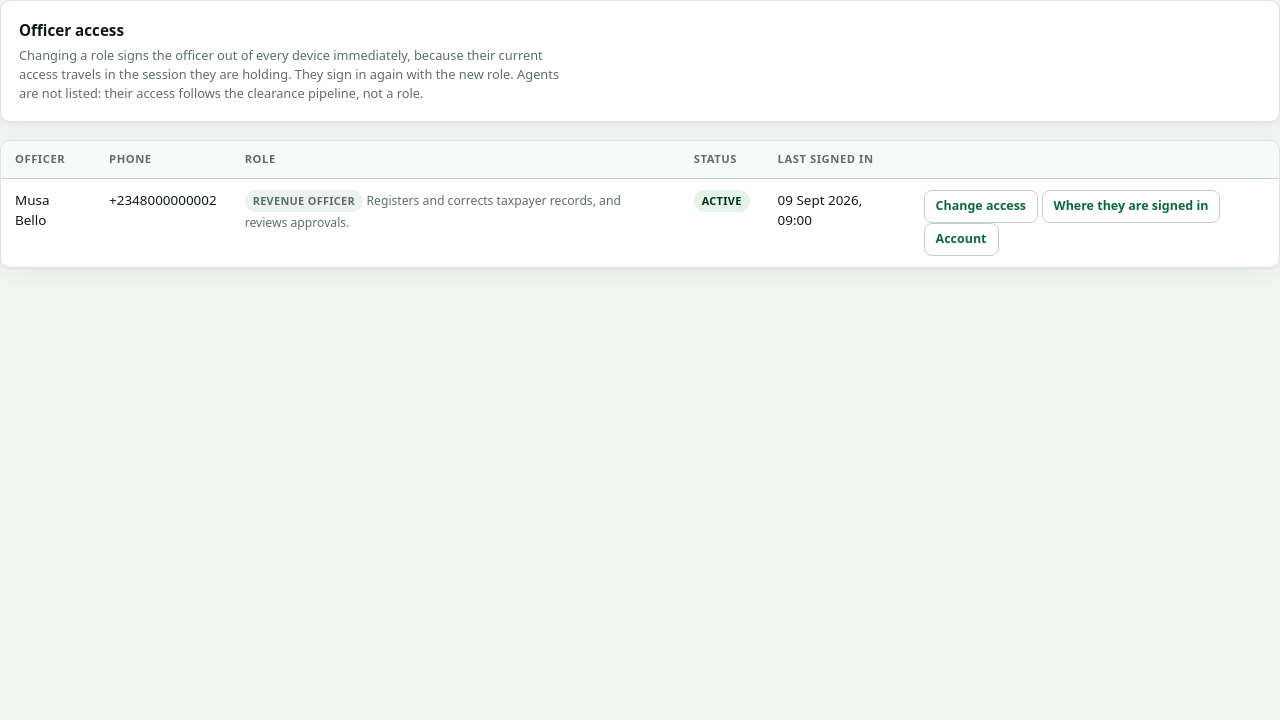
Test: on the screen that ends somebody’s access › stops saying it once the reason is long enough
Click the button "Account": click(961, 239) top-left (924, 223), bottom-right (998, 256)
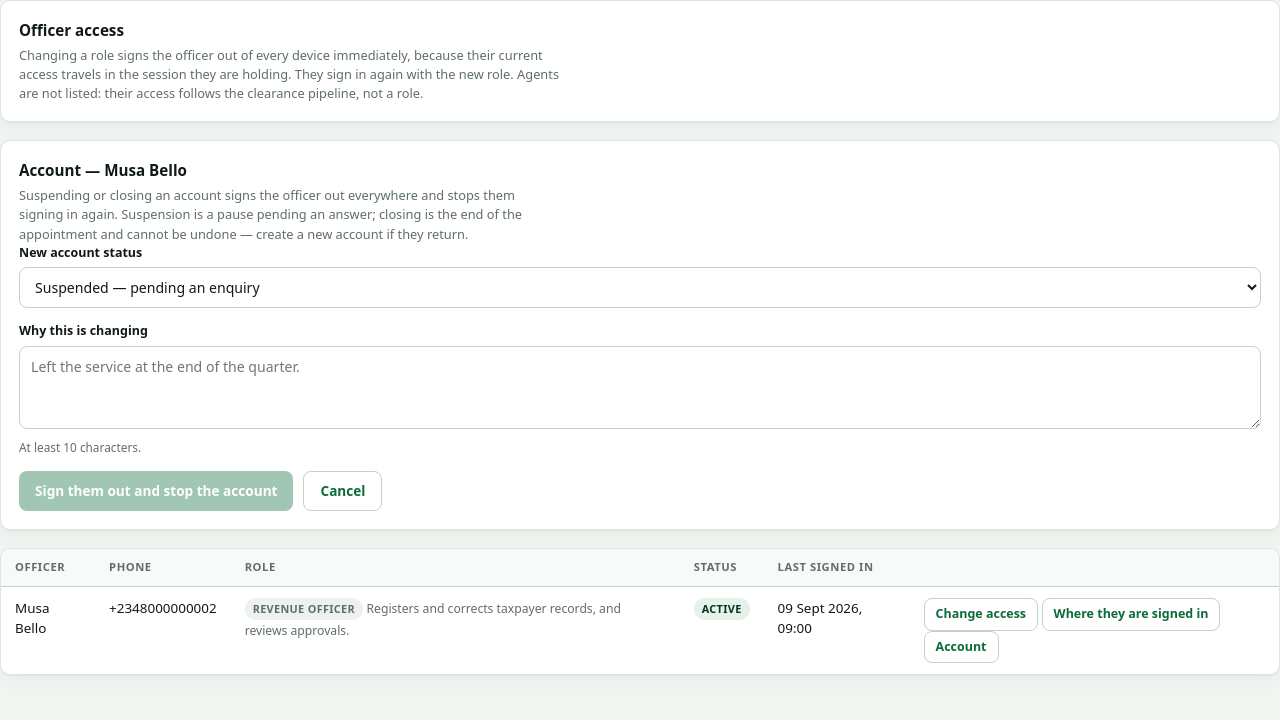
Now the text "At least 10 characters." is shown, box top-left (19, 439), bottom-right (141, 455)
In the text box with id "status-reason": (640, 388) top-left (19, 346), bottom-right (1261, 430), type "Left the service at the end of August."
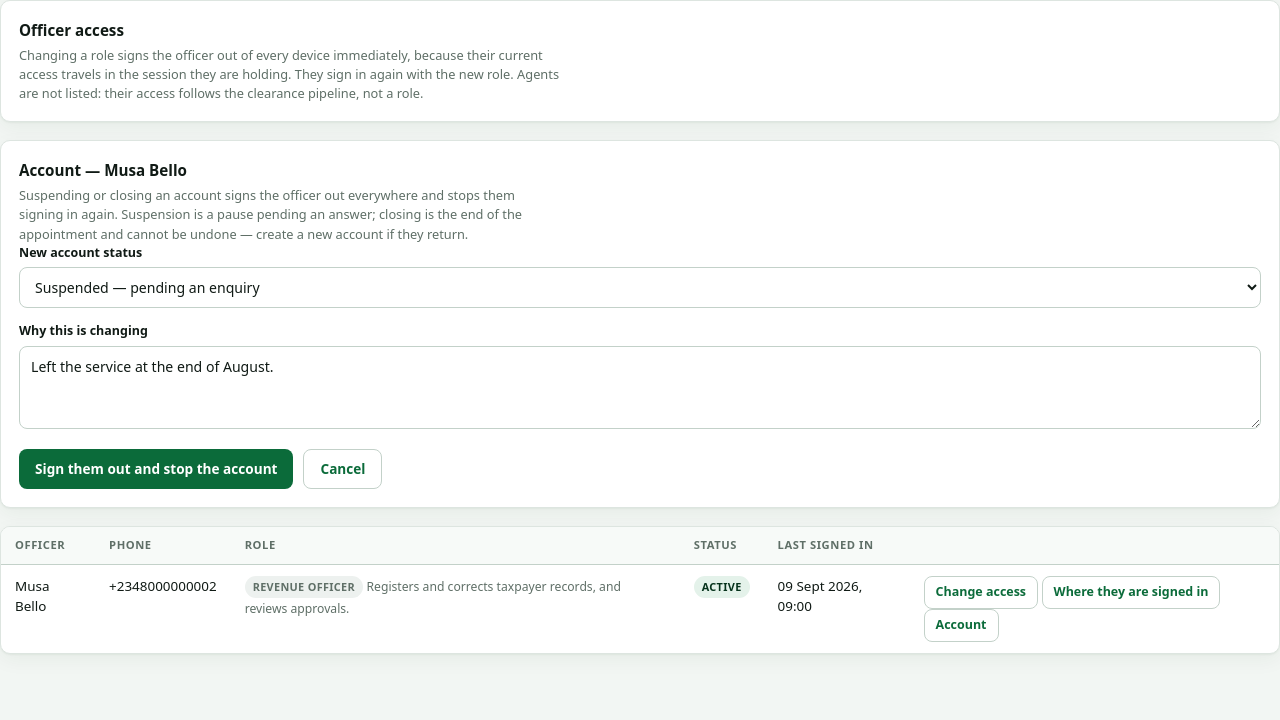
Now the text "At least 10 characters" is gone
